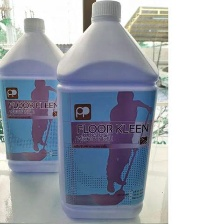cleaning_solution: (53, 0, 160, 222), (0, 14, 71, 177)
